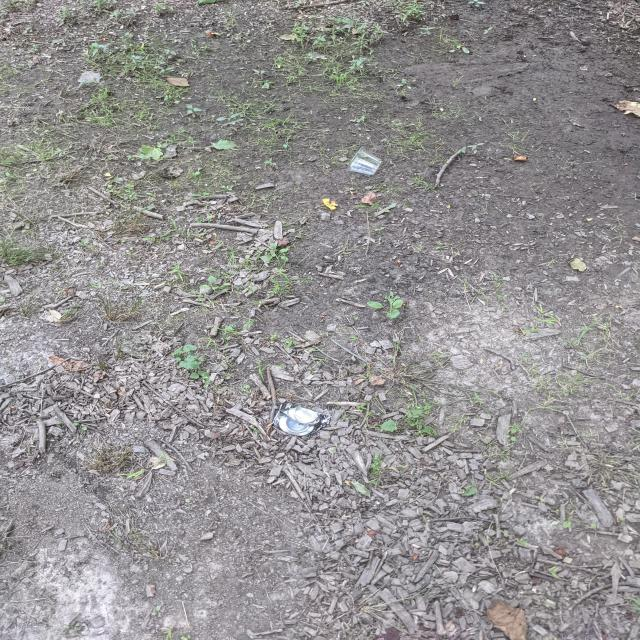litter: (279, 406, 323, 437), (345, 146, 384, 176)
